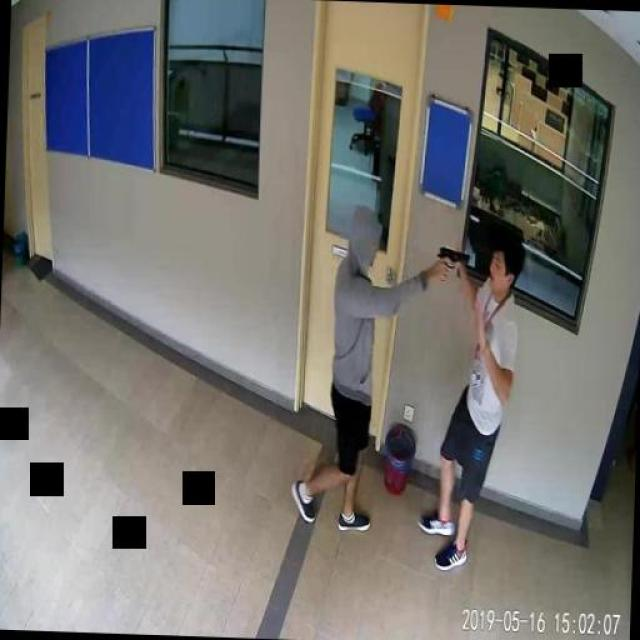gun: (437, 242, 468, 280)
